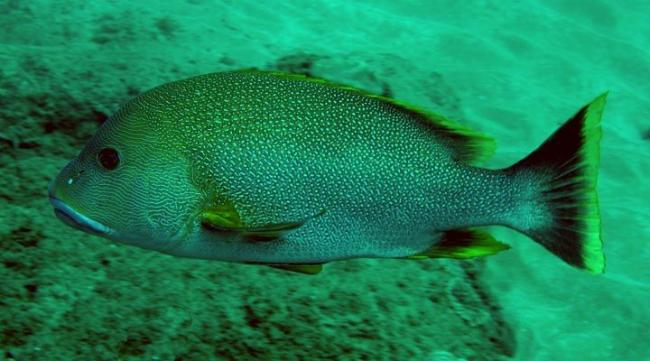fish: (48, 67, 610, 275)
